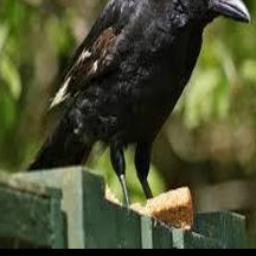Crow: (23, 0, 251, 213)
